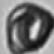correct: (6, 4, 54, 53)
